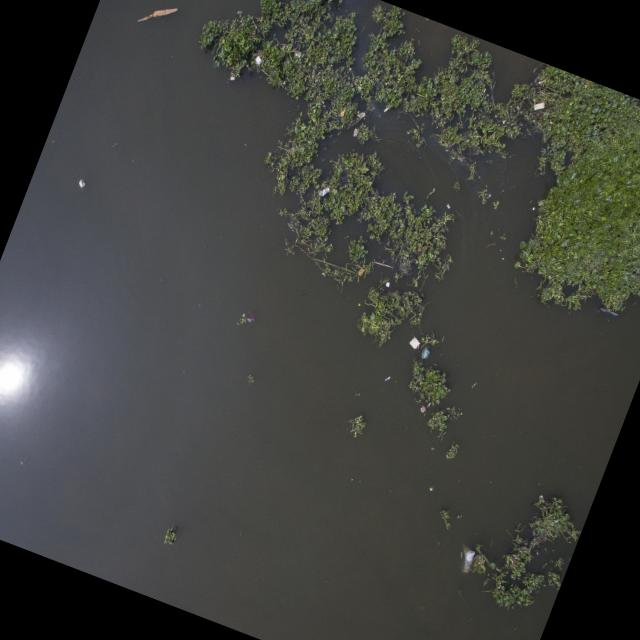Plastic: (451, 538, 483, 580), (532, 96, 548, 114), (318, 183, 332, 199), (420, 346, 434, 362), (409, 336, 422, 351), (355, 109, 366, 121), (76, 178, 87, 190), (254, 56, 264, 66), (352, 127, 361, 138), (293, 50, 303, 58), (382, 104, 390, 114)
